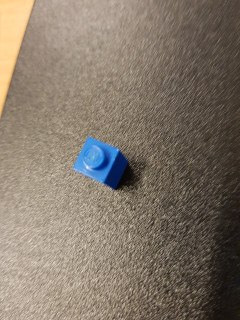1x1 blue: (70, 135, 131, 192)
